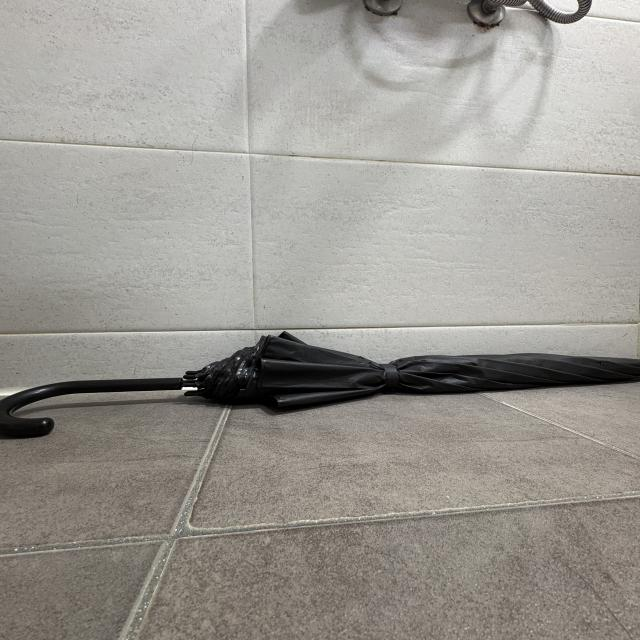umbrella: (0, 330, 640, 439)
